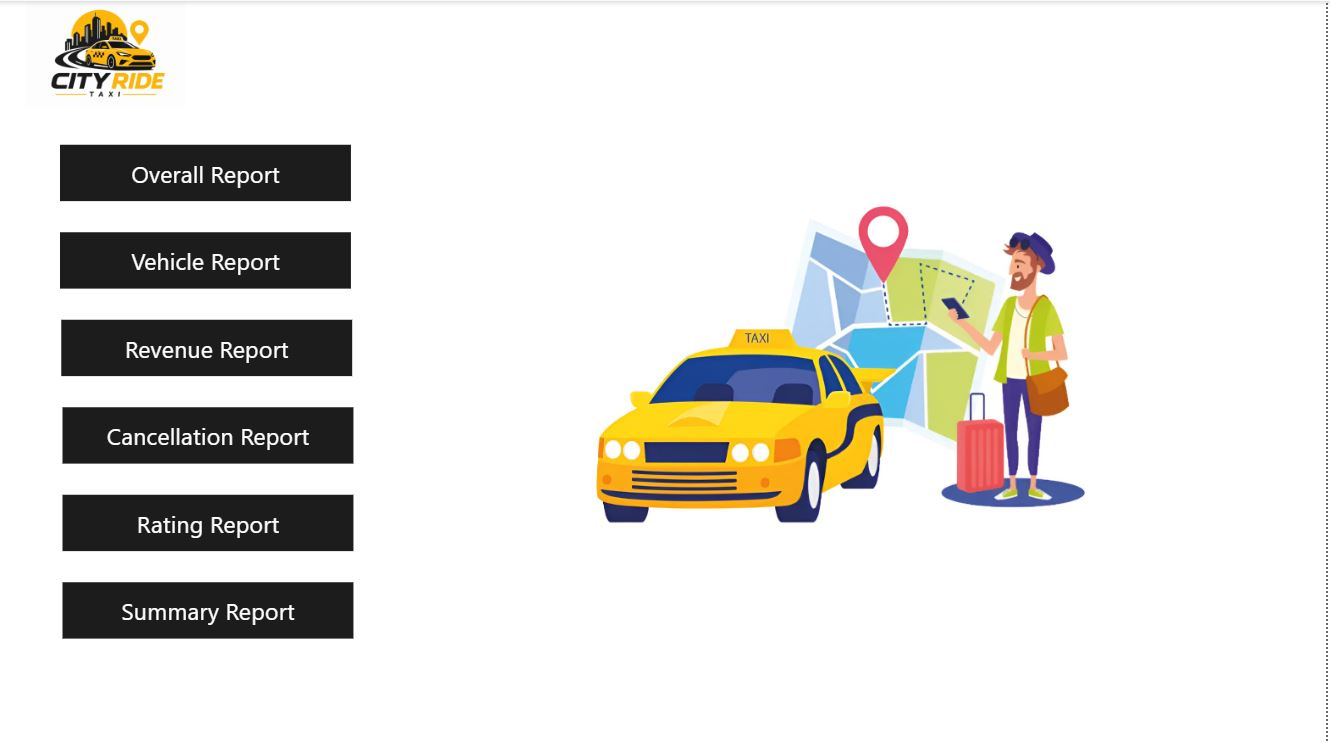

Layout of this report page (visuals, bound fields, positions):
{"tool":"powerbi","page":{"name":"Homepage","canvas":[1280,720],"ordinal":0},"visuals":[{"type":"actionButton","title":"Overall Report","box":[57.9,138.7,281.1,54.3],"z":0},{"type":"actionButton","title":"Overall Report","box":[57.9,223.2,281.1,54.3],"z":1000},{"type":"actionButton","title":"Overall Report","box":[59.1,307.6,281.1,54.3],"z":2000},{"type":"actionButton","title":"Overall Report","box":[60.3,392.1,281.1,54.3],"z":3000},{"type":"actionButton","title":"Overall Report","box":[60.3,476.5,281.1,54.3],"z":4000},{"type":"actionButton","title":"Overall Report","box":[60.3,561,281.1,54.3],"z":5000},{"type":"image","box":[2.4,0,199.1,102.5],"z":6000},{"type":"image","box":[487.4,124.3,655.1,491],"z":7000}]}

Visuals, with their boxes in screenshot pixels (x1, y1, x2, y2), scaled from the page's 1280x720 canvas onto the 1330x743 screenshot:
"Overall Report" actionButton: <bbox>60, 143, 352, 199</bbox>
"Overall Report" actionButton: <bbox>60, 230, 352, 286</bbox>
"Overall Report" actionButton: <bbox>61, 317, 353, 373</bbox>
"Overall Report" actionButton: <bbox>63, 405, 355, 461</bbox>
"Overall Report" actionButton: <bbox>63, 492, 355, 548</bbox>
"Overall Report" actionButton: <bbox>63, 579, 355, 635</bbox>
image: <bbox>2, 0, 209, 106</bbox>
image: <bbox>506, 128, 1187, 635</bbox>
